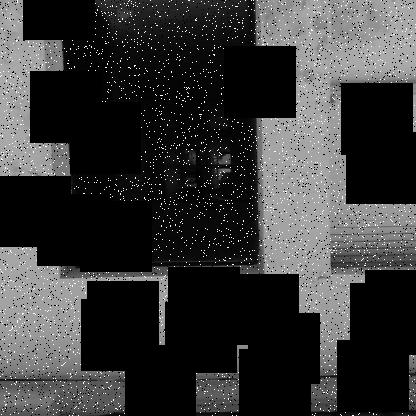Porte: (60, 1, 257, 269)
